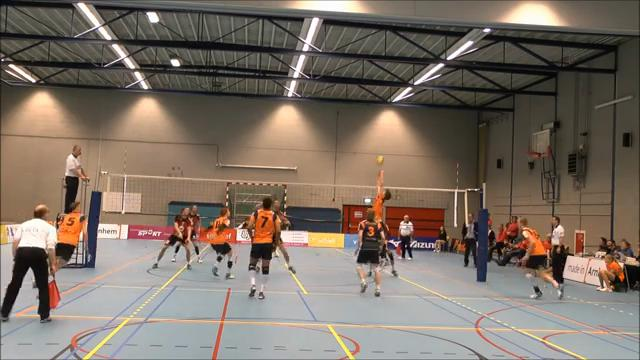alzata: (368, 162, 396, 248)
